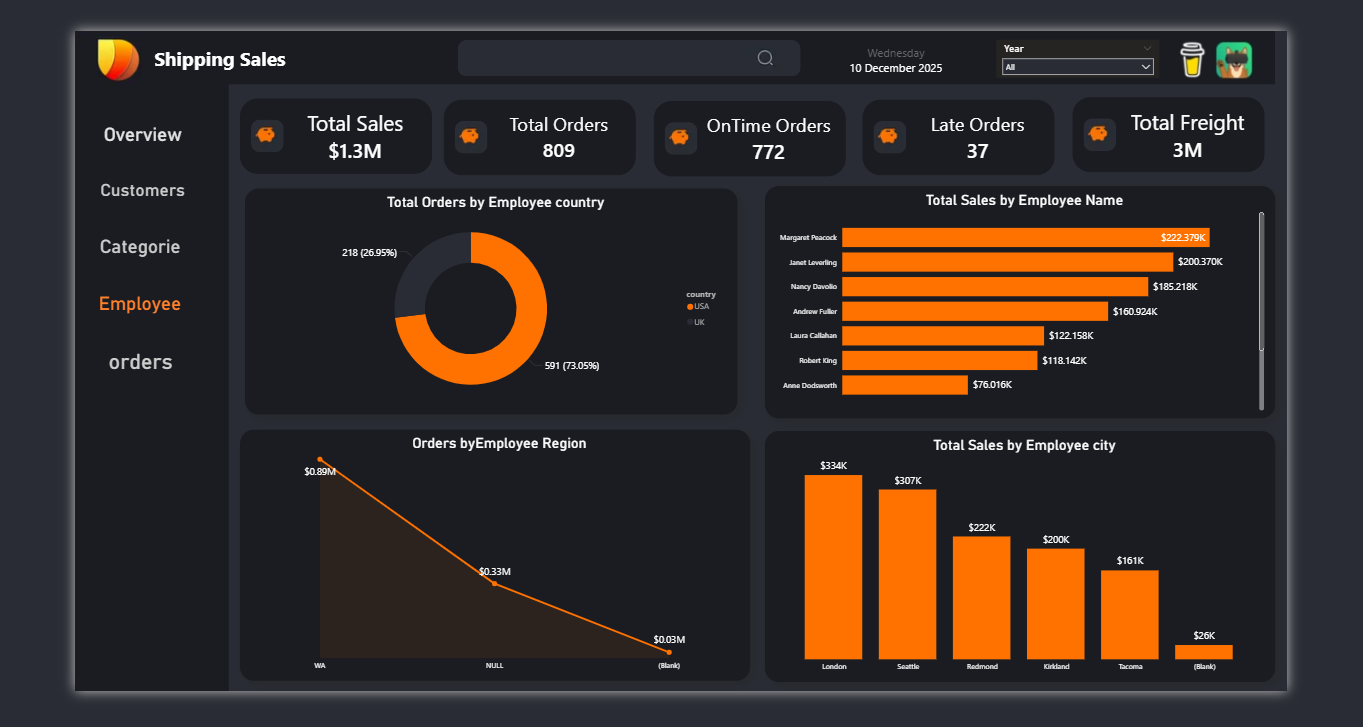

The dashboard page shown, as its layout file describes it:
{"tool":"powerbi","page":{"name":"Employee","canvas":[2020,1100],"ordinal":3},"visuals":[{"type":"shape","box":[0,0,2000,88.9],"z":0},{"type":"shape","box":[0,0,256.2,1100],"z":1000},{"type":"actionButton","title":"Customers","box":[40.7,247.7,142.6,40.7],"z":2000},{"type":"actionButton","title":"Categories","box":[37,341.7,142.6,40.7],"z":3000},{"type":"actionButton","title":"orders","box":[37.5,529.2,143.8,41.7],"z":4000},{"type":"actionButton","title":"Employee","box":[37.5,435.4,141.7,41.7],"z":5000},{"type":"shape","box":[637,14.8,572.2,61.1],"z":6000},{"type":"textbox","box":[1259.3,18.5,220.4,61.1],"z":7000},{"type":"image","box":[1775.9,9.3,168.5,75.9],"z":8000},{"type":"image","box":[1861.1,5.6,138.9,75.9],"z":9000},{"type":"image","box":[0,1.9,116.7,88.9],"z":10000},{"type":"textbox","box":[127.8,18.5,309.3,66.7],"z":11000},{"type":"image","box":[1085.2,22.2,124.1,48.1],"z":12000},{"type":"actionButton","title":"Overview","box":[40.7,153.7,142.6,40.7],"z":13000},{"type":"slicer","fields":{"Values":["order_Dim.orderDate.Variation.Date Hierarchy.Year"]},"box":[1535.2,14.8,272.2,63],"z":14000},{"type":"cardVisual","fields":{"Data":["MeasureDAX.Total Sales"]},"box":[275.9,111.9,320.4,125.9],"z":15000},{"type":"cardVisual","fields":{"Data":["MeasureDAX.Total Orders"]},"box":[614.5,115.3,320,125.9],"z":16000},{"type":"cardVisual","fields":{"Data":["MeasureDAX.Late Orders"]},"box":[1313.2,113.6,320.4,125.9],"z":17000},{"type":"cardVisual","fields":{"Data":["MeasureDAX.OnTime Orders"]},"box":[963.9,117,320,125.9],"z":18000},{"type":"cardVisual","fields":{"Data":["MeasureDAX.Total Freight"]},"box":[1663,111.1,320.4,125],"z":19000},{"type":"barChart","title":"Total Sales by Employee Name","fields":{"Category":["employee_Dim.Name"],"Y":["MeasureDAX.Total Sales"]},"box":[1150,258.3,850,387.5],"z":20000},{"type":"donutChart","title":"Total Orders by Employee country","fields":{"Category":["employee_Dim.country"],"Y":["MeasureDAX.Total Orders"]},"box":[283.3,262.5,820.8,377.1],"z":21000},{"type":"lineChart","title":"Orders byEmployee Region","fields":{"Category":["employee_Dim.region"],"Y":["MeasureDAX.Total Sales"]},"box":[275,664.6,850,418.8],"z":22000},{"type":"columnChart","title":"Total Sales by Employee city","fields":{"Category":["employee_Dim.city"],"Y":["MeasureDAX.Total Sales"]},"box":[1150,666.7,850,418.8],"z":23000}]}

Visuals, with their boxes on the page's 2020x1100 design canvas (x1, y1, x2, y2). These are canvas units, not pixel positions in the 1363x727 screenshot, which may show the page scaled, cropped or inside an application window:
shape: bbox=[0, 0, 2000, 89]
shape: bbox=[0, 0, 256, 1100]
"Customers" actionButton: bbox=[41, 248, 183, 288]
"Categories" actionButton: bbox=[37, 342, 180, 382]
"orders" actionButton: bbox=[38, 529, 181, 571]
"Employee" actionButton: bbox=[38, 435, 179, 477]
shape: bbox=[637, 15, 1209, 76]
textbox: bbox=[1259, 18, 1480, 80]
image: bbox=[1776, 9, 1944, 85]
image: bbox=[1861, 6, 2000, 82]
image: bbox=[0, 2, 117, 91]
textbox: bbox=[128, 18, 437, 85]
image: bbox=[1085, 22, 1209, 70]
"Overview" actionButton: bbox=[41, 154, 183, 194]
slicer - order_Dim.orderDate.Variation.Date Hierarchy.Year: bbox=[1535, 15, 1807, 78]
cardVisual - MeasureDAX.Total Sales: bbox=[276, 112, 596, 238]
cardVisual - MeasureDAX.Total Orders: bbox=[614, 115, 934, 241]
cardVisual - MeasureDAX.Late Orders: bbox=[1313, 114, 1634, 240]
cardVisual - MeasureDAX.OnTime Orders: bbox=[964, 117, 1284, 243]
cardVisual - MeasureDAX.Total Freight: bbox=[1663, 111, 1983, 236]
"Total Sales by Employee Name" barChart: bbox=[1150, 258, 2000, 646]
"Total Orders by Employee country" donutChart: bbox=[283, 262, 1104, 640]
"Orders byEmployee Region" lineChart: bbox=[275, 665, 1125, 1083]
"Total Sales by Employee city" columnChart: bbox=[1150, 667, 2000, 1086]
